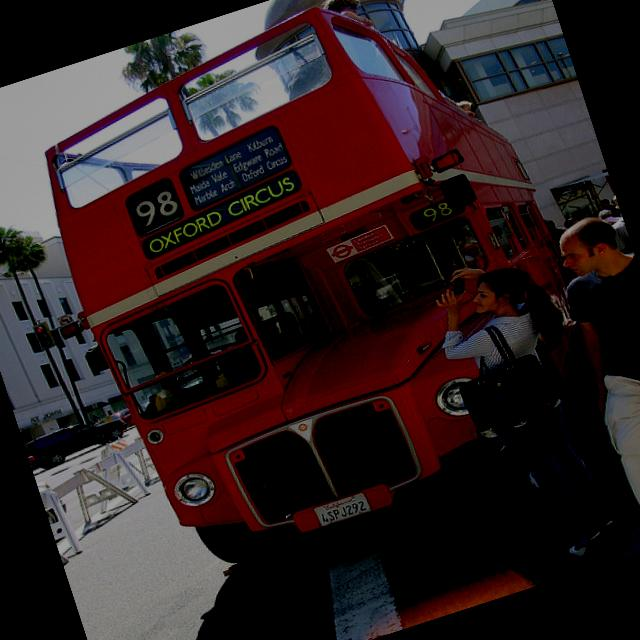Vehicle: (19, 0, 634, 608), (23, 409, 132, 476), (98, 407, 137, 435)
